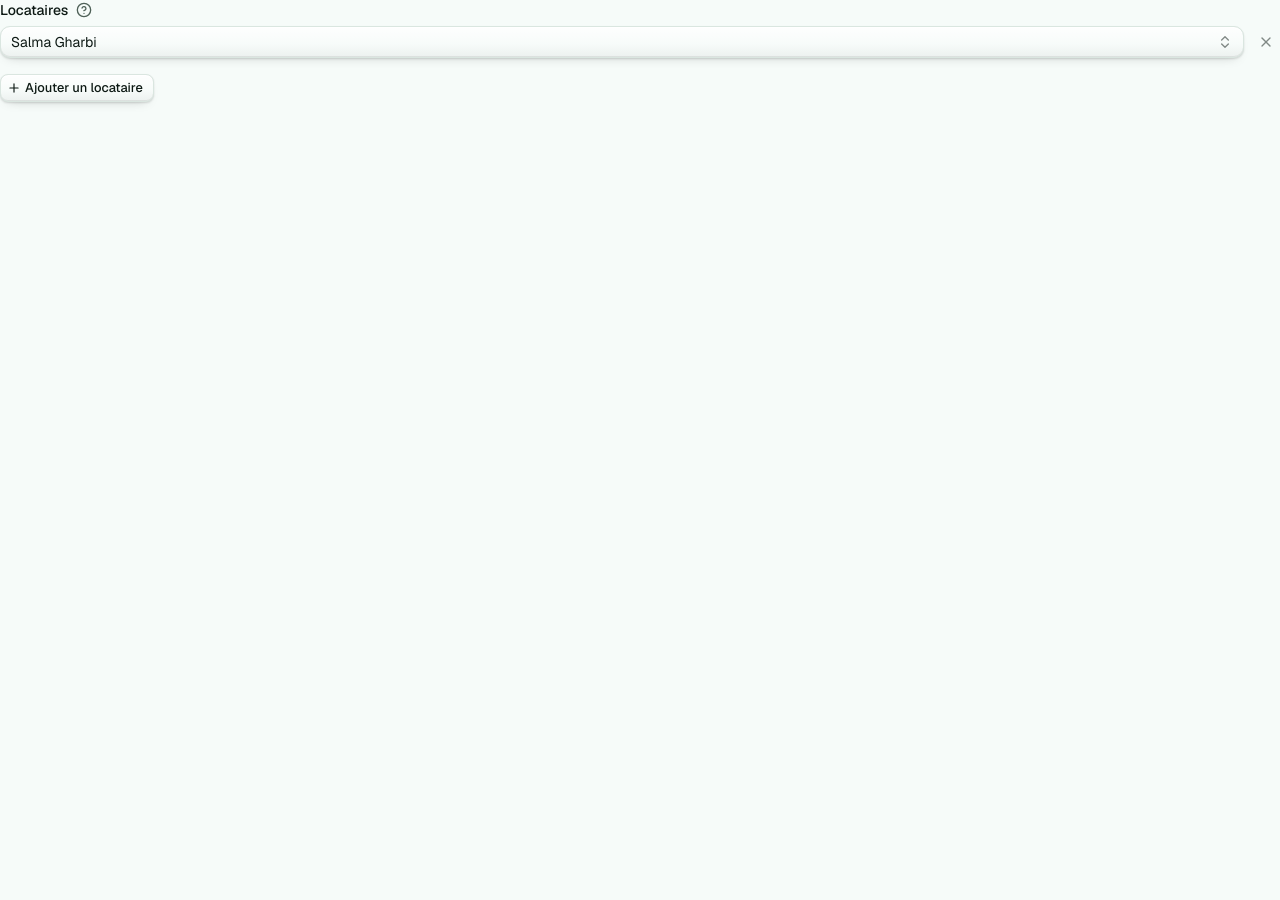
Test: LeasePartiesField › shows the help of the legend in a popover
Expected: the text "Les personnes qui louent et signent le bail." is not shown
Click the button named "Aide": (84, 10) [74,0,94,20]
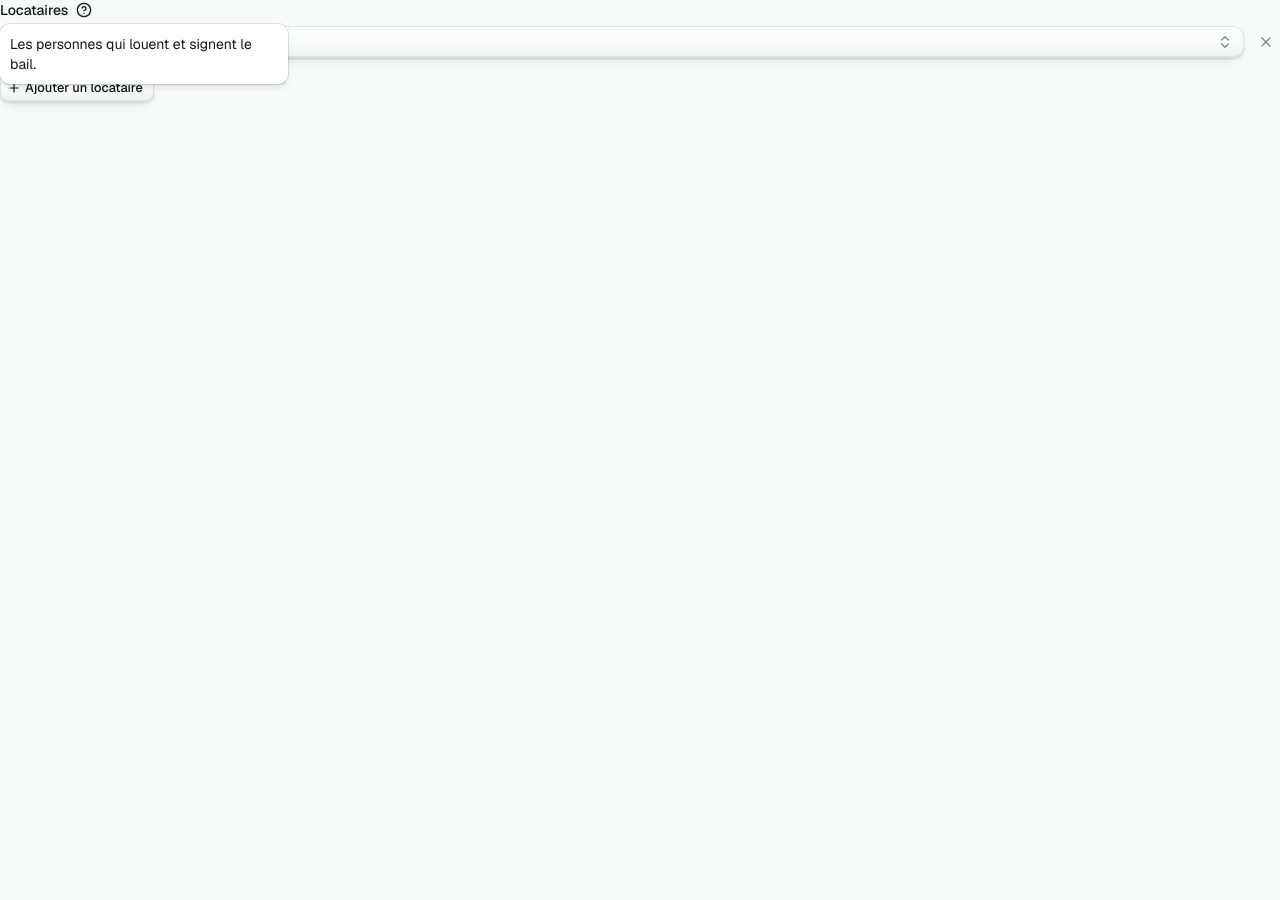
Result: the text "Les personnes qui louent et signent le bail." is shown at [0,24,288,84]
